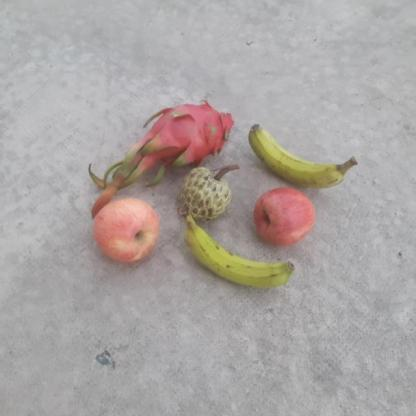annona: (175, 168, 233, 220)
apple: (94, 194, 163, 266), (251, 188, 316, 244)
banana: (247, 113, 362, 193), (181, 221, 298, 290)
pitaya: (150, 102, 235, 166)
